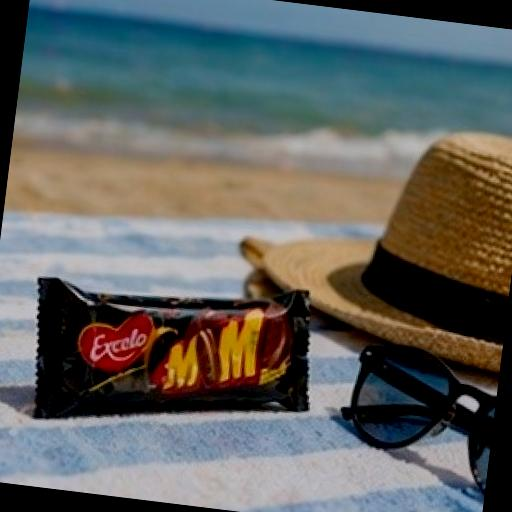MOMO: (0, 222, 383, 480)
